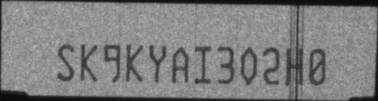0: (309, 48, 326, 85)
2: (263, 46, 280, 85)
3: (217, 46, 234, 84)
9: (104, 43, 121, 83)
A: (172, 46, 190, 84)
H: (286, 46, 304, 85)
I: (194, 44, 211, 83)
K: (125, 42, 143, 83), (80, 43, 98, 83)
O: (240, 46, 259, 85)
S: (57, 43, 75, 82)
Y: (149, 45, 167, 83)
